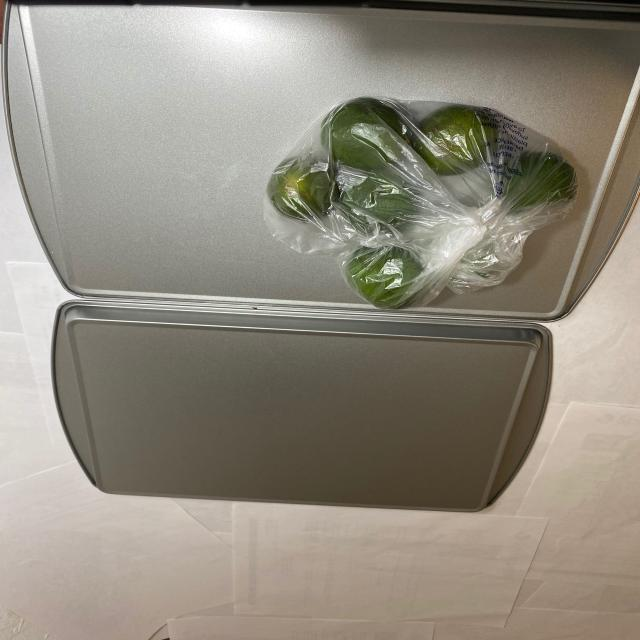lemon: (268, 96, 579, 308)
